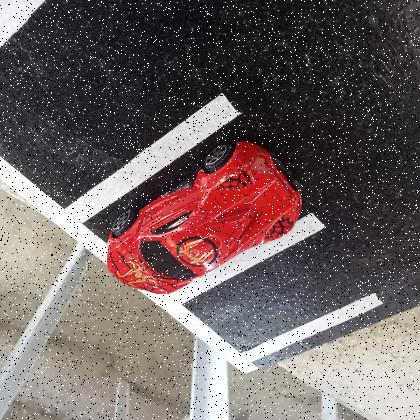Car: (106, 139, 302, 293)
